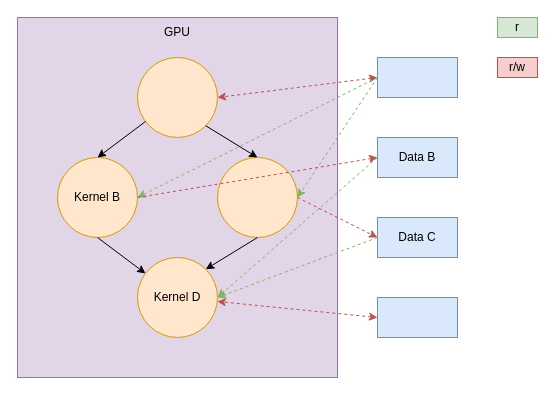
Image size: 555x395. Some labels were removed from this diagram. The shapes that lost their labels are listed below. From the top down, each one's centre as x and y in pixels, then its label:
the point at 177,97: Kernel A
the point at 417,77: Data A
the point at 257,197: Kernel C
the point at 417,317: Data D
